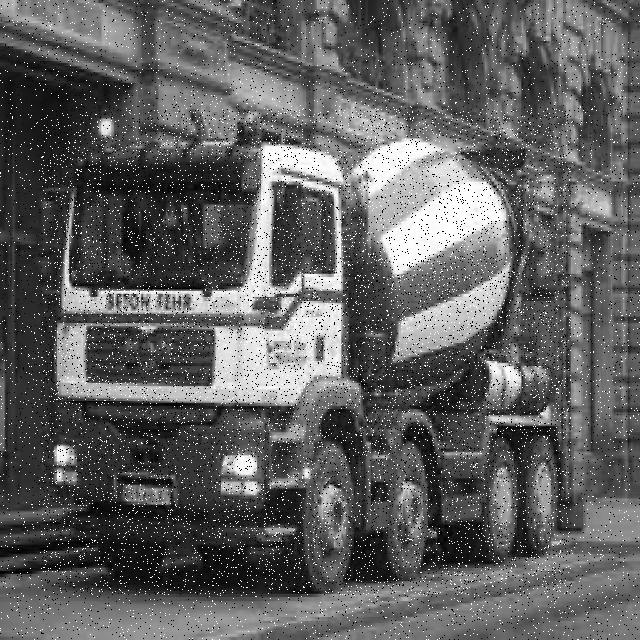Concrete Mixer: (41, 109, 571, 595)
